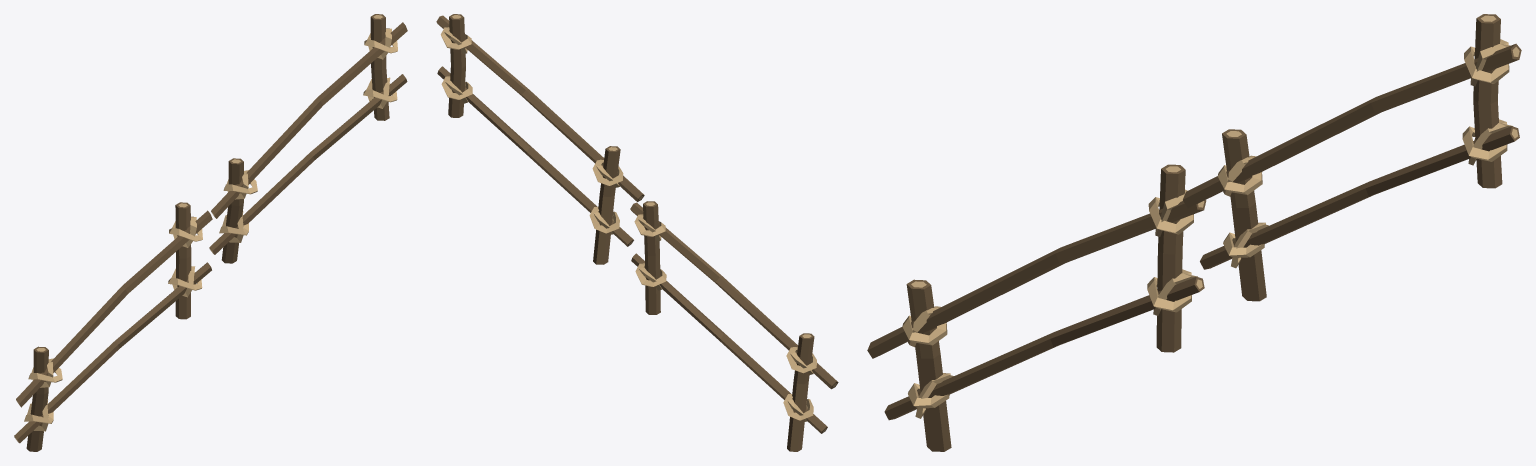
File: rpgpp_ag_wall_platform_stairs_01a_4m_handrail_02.fbx
3 renders of one model, left to right at view 1: azimuth 30°, elevation 25°; view 2: azimuth 150°, elevation 25°; view 3: azimuth 330°, elevation 25°, orthographic. The views are drawn at different scales.
Visible parts, largest first — view 1: rpgpp_ag_wall_platform_stairs_01a_4m_handrail_02; view 2: rpgpp_ag_wall_platform_stairs_01a_4m_handrail_02; view 3: rpgpp_ag_wall_platform_stairs_01a_4m_handrail_02.
Boxes of the visible parts, left/top/right/bottom form: rpgpp_ag_wall_platform_stairs_01a_4m_handrail_02: left=14, top=14, right=407, bottom=451; rpgpp_ag_wall_platform_stairs_01a_4m_handrail_02: left=436, top=14, right=838, bottom=451; rpgpp_ag_wall_platform_stairs_01a_4m_handrail_02: left=867, top=14, right=1521, bottom=451.
Size of the model in its own units: 5.59 by 4.73 by 0.6065.
